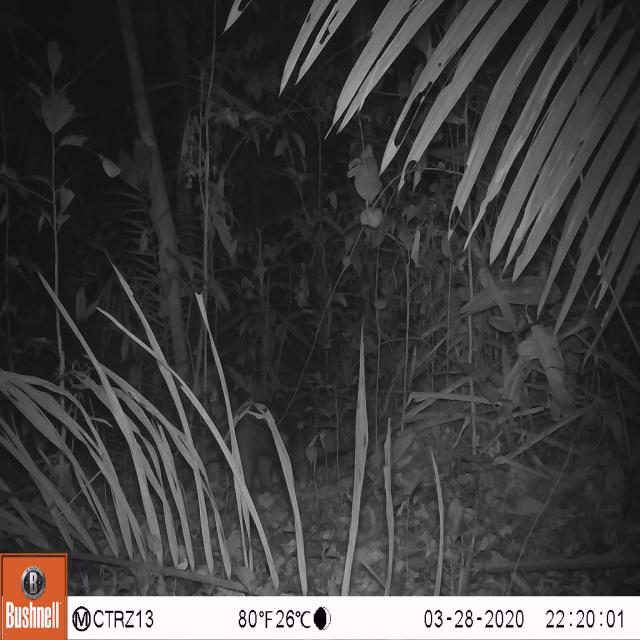Southern Tamandua: (209, 390, 363, 504)
